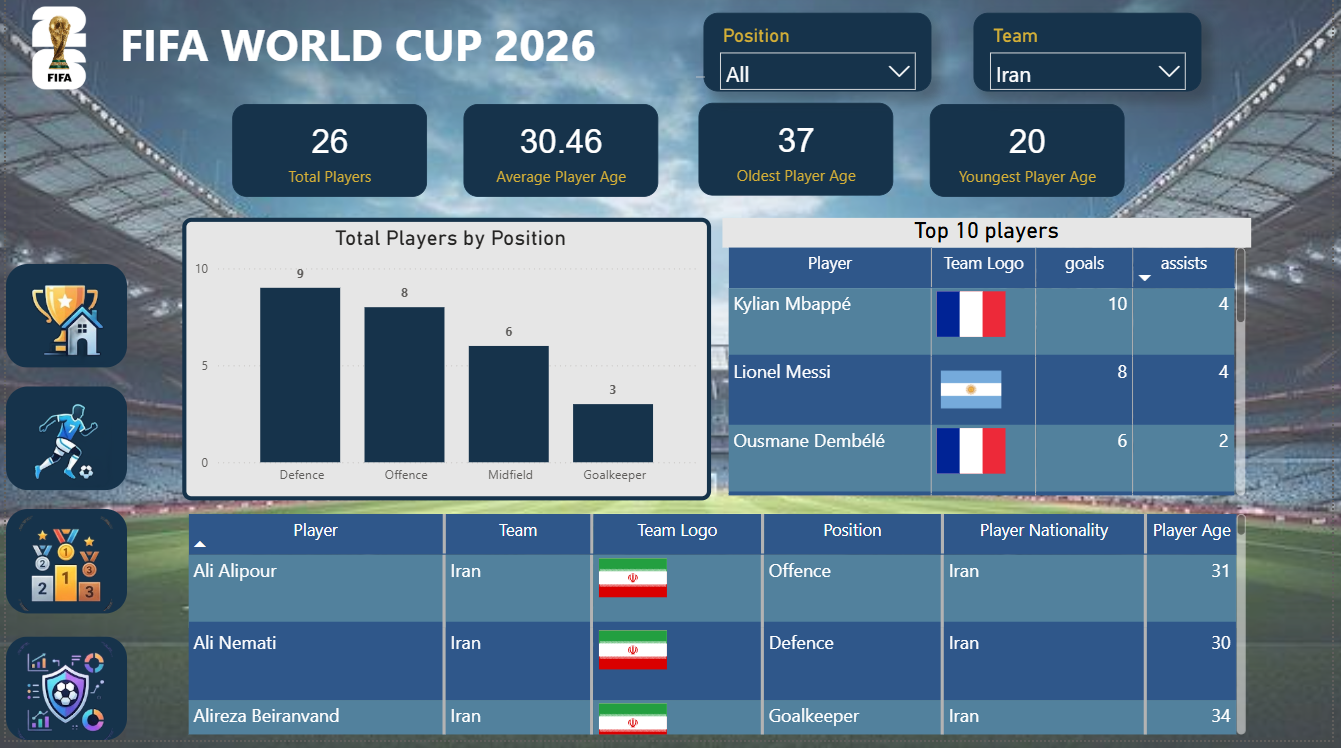

This screenshot's page, from the dashboard's own definition file:
{"tool":"powerbi","page":{"name":" Players","canvas":[1280,720],"ordinal":2},"visuals":[{"type":"card","fields":{"Values":["My Measures.Registered Players"]},"box":[217.8,105.8,188.3,89.8],"z":0},{"type":"card","fields":{"Values":["My Measures.Youngest Player Age"]},"box":[891.1,105.8,188.3,89.8],"z":1000},{"type":"card","fields":{"Values":["My Measures.Oldest Player Age"]},"box":[668.3,104.6,188.3,89.8],"z":2000},{"type":"card","fields":{"Values":["My Measures.Average Player Age"]},"box":[441.8,105.8,188.3,89.8],"z":3000},{"type":"slicer","fields":{"Values":["Dim_Players.Position"]},"box":[673.2,18.5,220.3,76.3],"z":4000},{"type":"slicer","fields":{"Values":["Dim_Players.Team"]},"box":[934.2,18.5,220.3,76.3],"z":5000},{"type":"clusteredColumnChart","fields":{"Category":["Dim_Players.Position"],"Y":["My Measures.Total Players"]},"box":[169.8,215.4,510,273],"z":6000},{"type":"tableEx","title":"Top 10 players","fields":{"Values":["Top_Scorers.name (Player)","Top_Scorers.crest","Top_Scorers.goals","Top_Scorers.assists"]},"box":[691.7,215.4,510,273],"z":7000},{"type":"tableEx","fields":{"Values":["Dim_Players.Player","Dim_Players.Team","Dim_Players.Team Logo","Dim_Players.Position","Dim_Players.Player Nationality","Dim_Players.Player Age"]},"box":[169.8,497.2,1031.4,222.8],"z":8000},{"type":"image","box":[0,379.1,116.9,99.7],"z":9000},{"type":"image","box":[0,620.3,116.9,99.7],"z":10000},{"type":"image","box":[0,260.9,116.9,99.7],"z":11000},{"type":"image","box":[0,497.2,116.9,100.9],"z":12000},{"type":"image","box":[0,12.1,102.5,79.6],"z":13000},{"type":"textbox","title":" FIFA WORLD CUP 2026","box":[0,18.1,679.2,67.6],"z":14000}]}

Visuals, with their boxes in screenshot pixels (x1, y1, x2, y2), scaled from the page's 1280x720 canvas onto the 1341x748 screenshot:
card - My Measures.Registered Players: (228,110,425,203)
card - My Measures.Youngest Player Age: (934,110,1131,203)
card - My Measures.Oldest Player Age: (700,109,897,202)
card - My Measures.Average Player Age: (463,110,660,203)
slicer - Dim_Players.Position: (705,19,936,98)
slicer - Dim_Players.Team: (979,19,1210,98)
clusteredColumnChart - Dim_Players.Position x My Measures.Total Players: (178,224,712,507)
"Top 10 players" tableEx: (725,224,1259,507)
tableEx - Dim_Players.Player x Dim_Players.Team: (178,517,1258,747)
image: (0,394,122,497)
image: (0,644,122,747)
image: (0,271,122,375)
image: (0,517,122,621)
image: (0,13,107,95)
" FIFA WORLD CUP 2026" textbox: (0,19,712,89)
